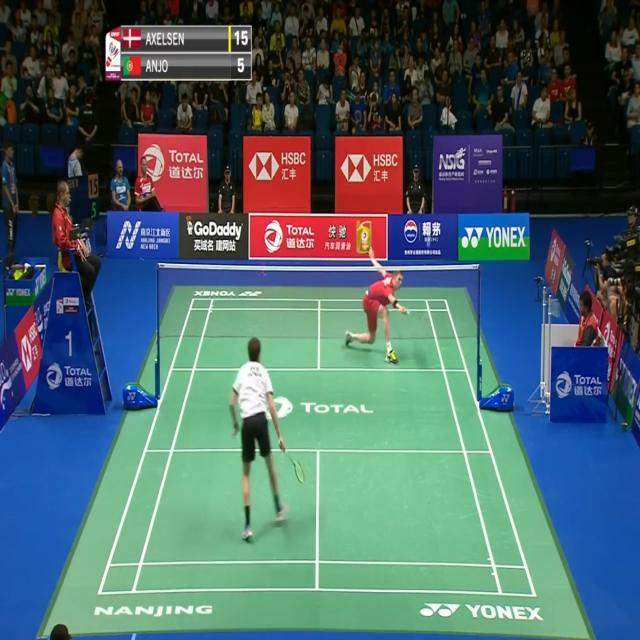Player1: (225, 334, 306, 540)
Player2: (339, 244, 412, 366)
